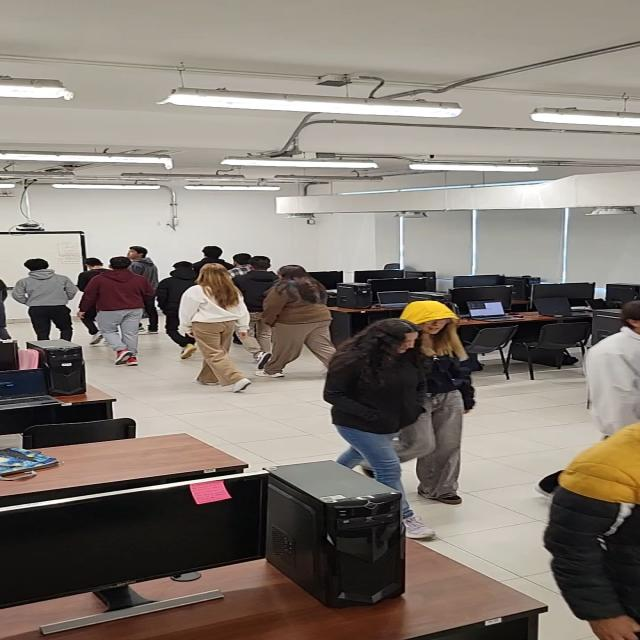Persona: (326, 316, 434, 542), (400, 302, 482, 506), (182, 262, 252, 396), (262, 264, 332, 380), (584, 299, 640, 430), (92, 256, 147, 368), (12, 258, 73, 340), (160, 259, 198, 359), (236, 255, 272, 359), (127, 246, 160, 338)
